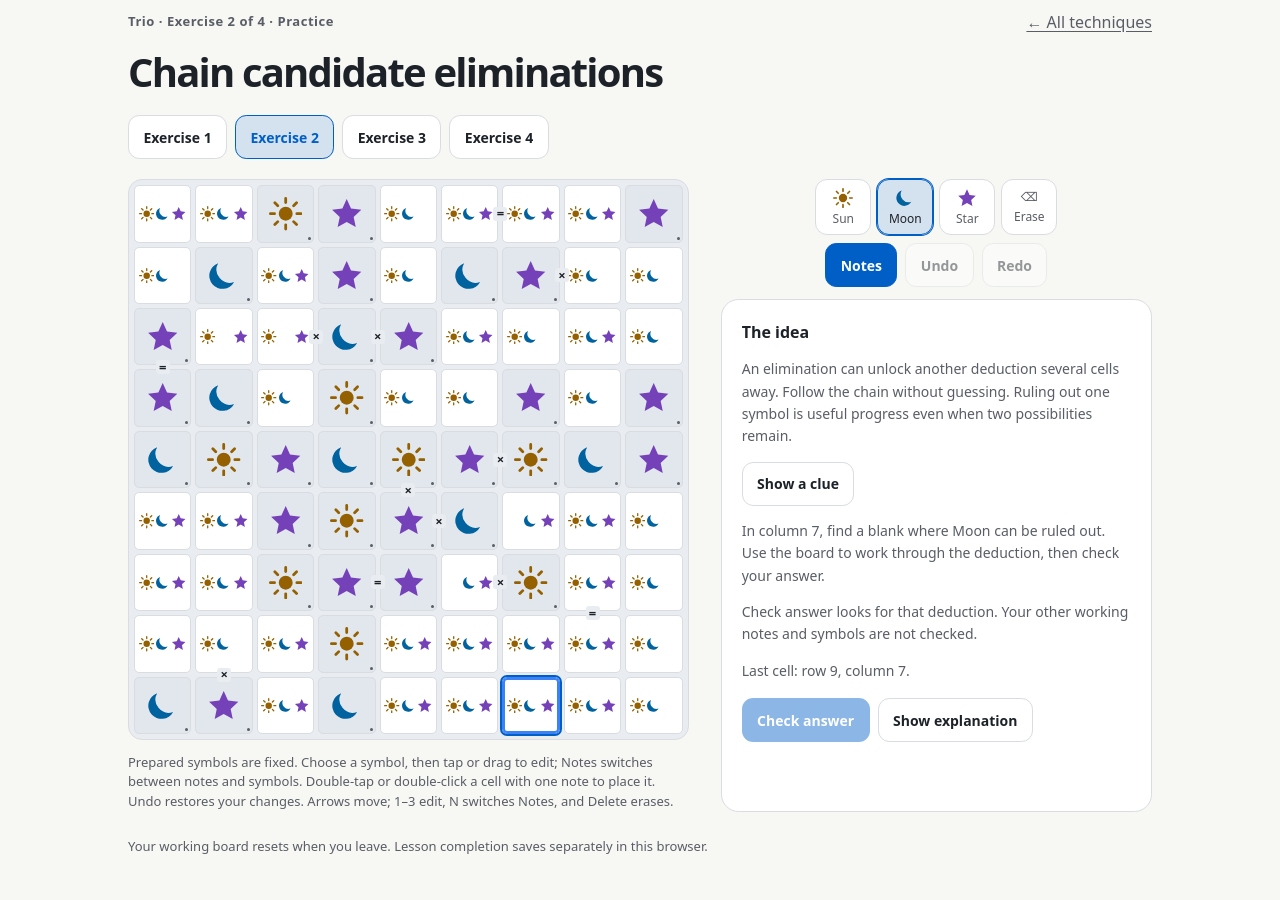
Test case: shows the named candidate removal on the board before checking trio-candidate-chains-2
The width and height of the screenshot is (1280, 900).
Press 2 in the cell named "Row 9, column 7, Empty, notes Sun, Moon, Star", box [502,677,560,734]
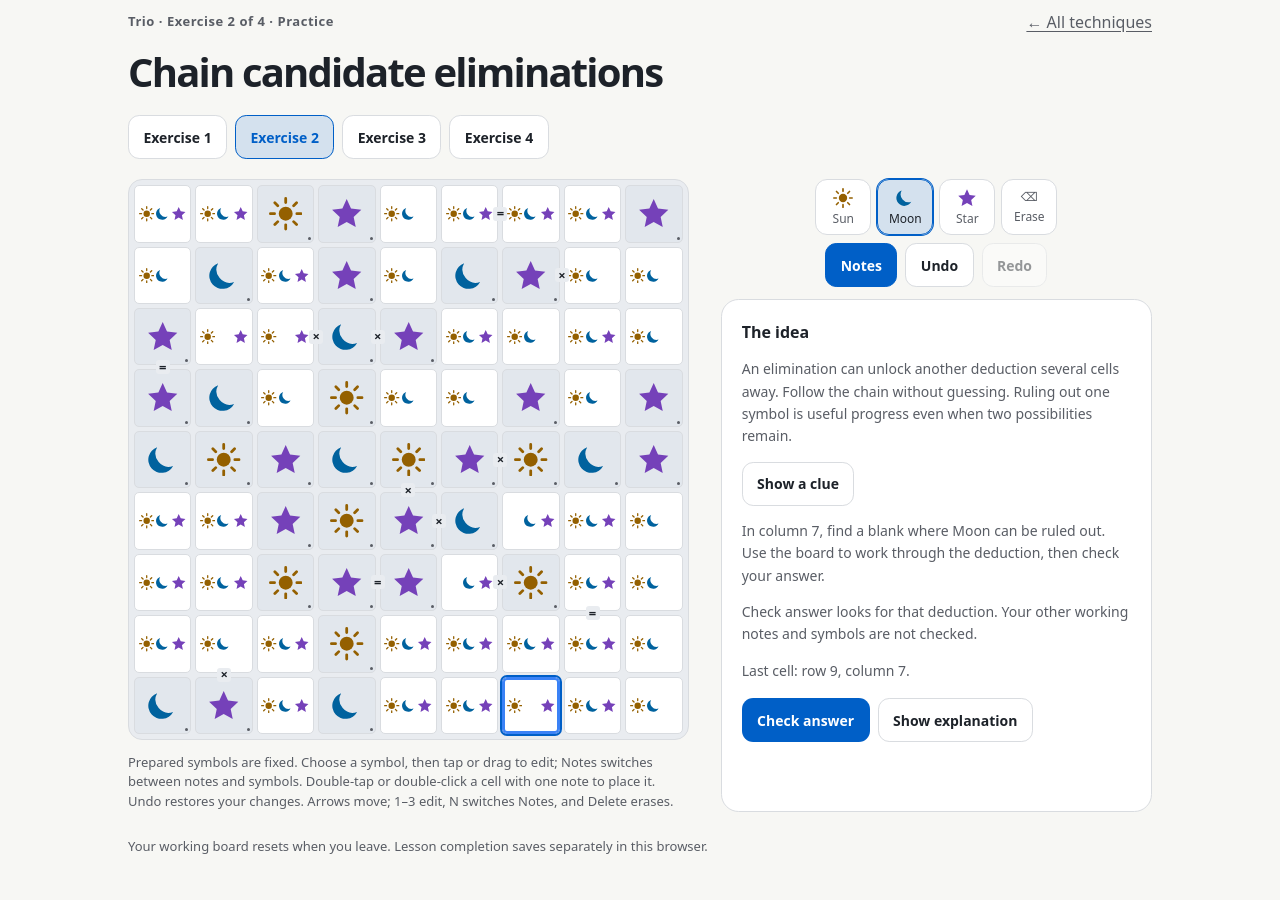
Click the button "Check answer": (806, 720) [742,698,870,742]
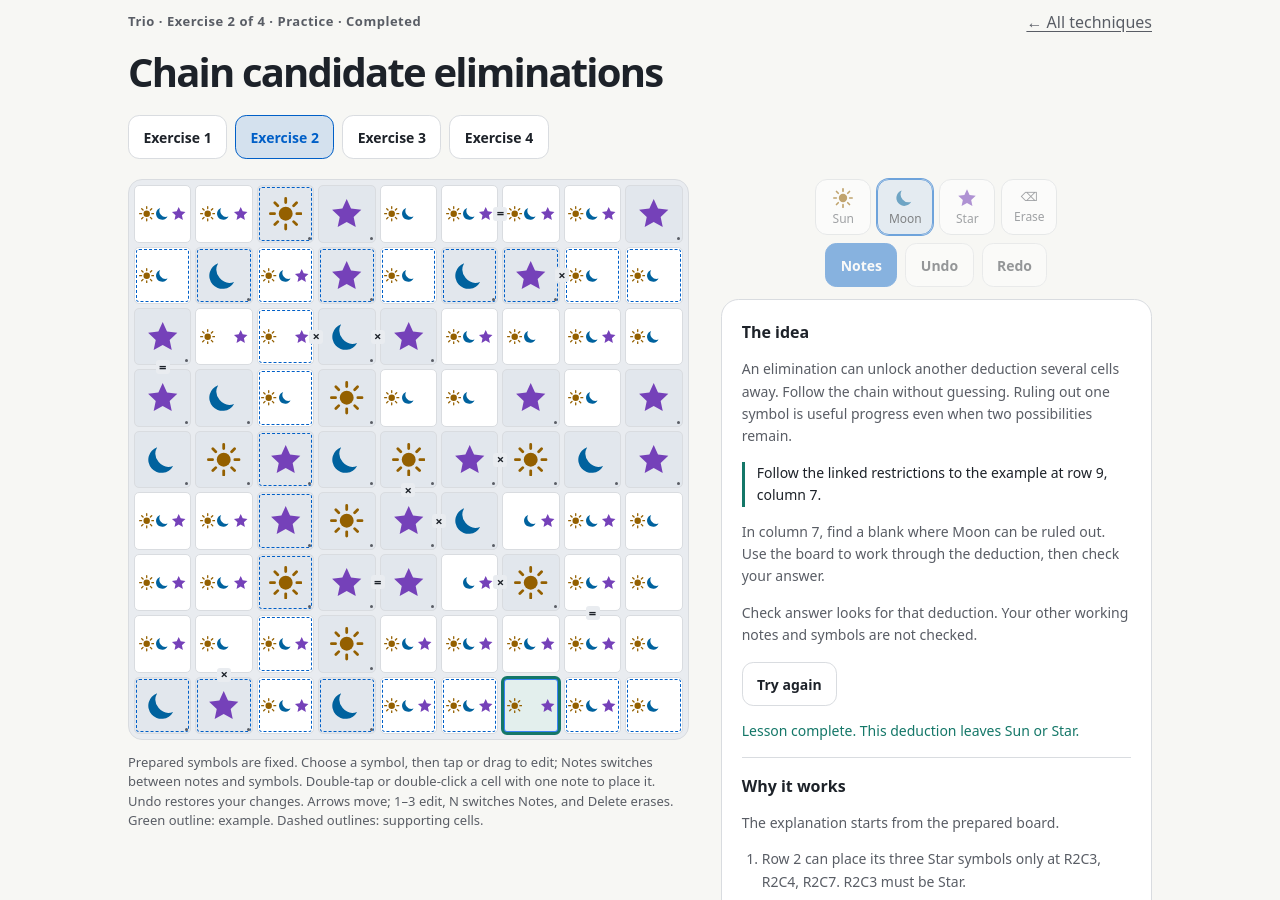
Expected: the message "Lesson complete. This deduction leaves Sun or Star." is shown, [742,720,1131,743]
Expected: the number of list items is 3
